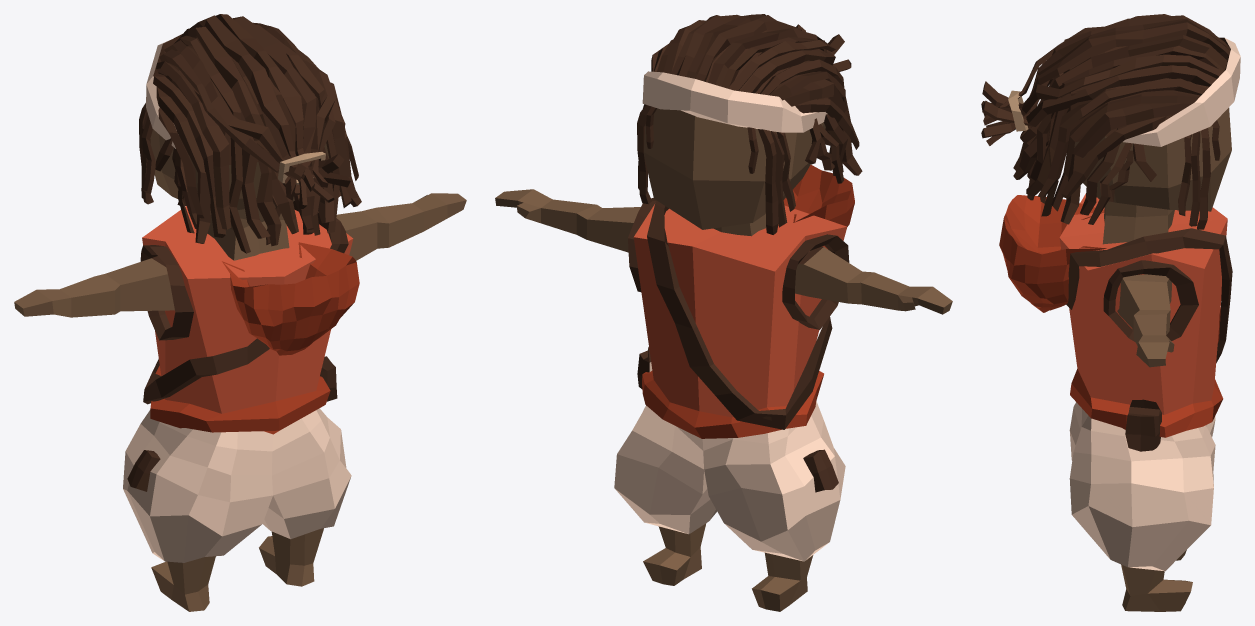
Rendered from Rhu.fbx.
The picture shows the model from 3 angles, left to right: view 1: azimuth 30°, elevation 25°; view 2: azimuth 150°, elevation 25°; view 3: azimuth 270°, elevation 25°; orthographic projection.
Parts seen in each view (by area): view 1: Cube; view 2: Cube; view 3: Cube.
Part boxes in pixels (left/top/right/bottom): Cube: left=14, top=14, right=466, bottom=611; Cube: left=495, top=14, right=952, bottom=611; Cube: left=981, top=14, right=1240, bottom=611.
Bounding box in the file's own units: 384 × 464 × 195.
